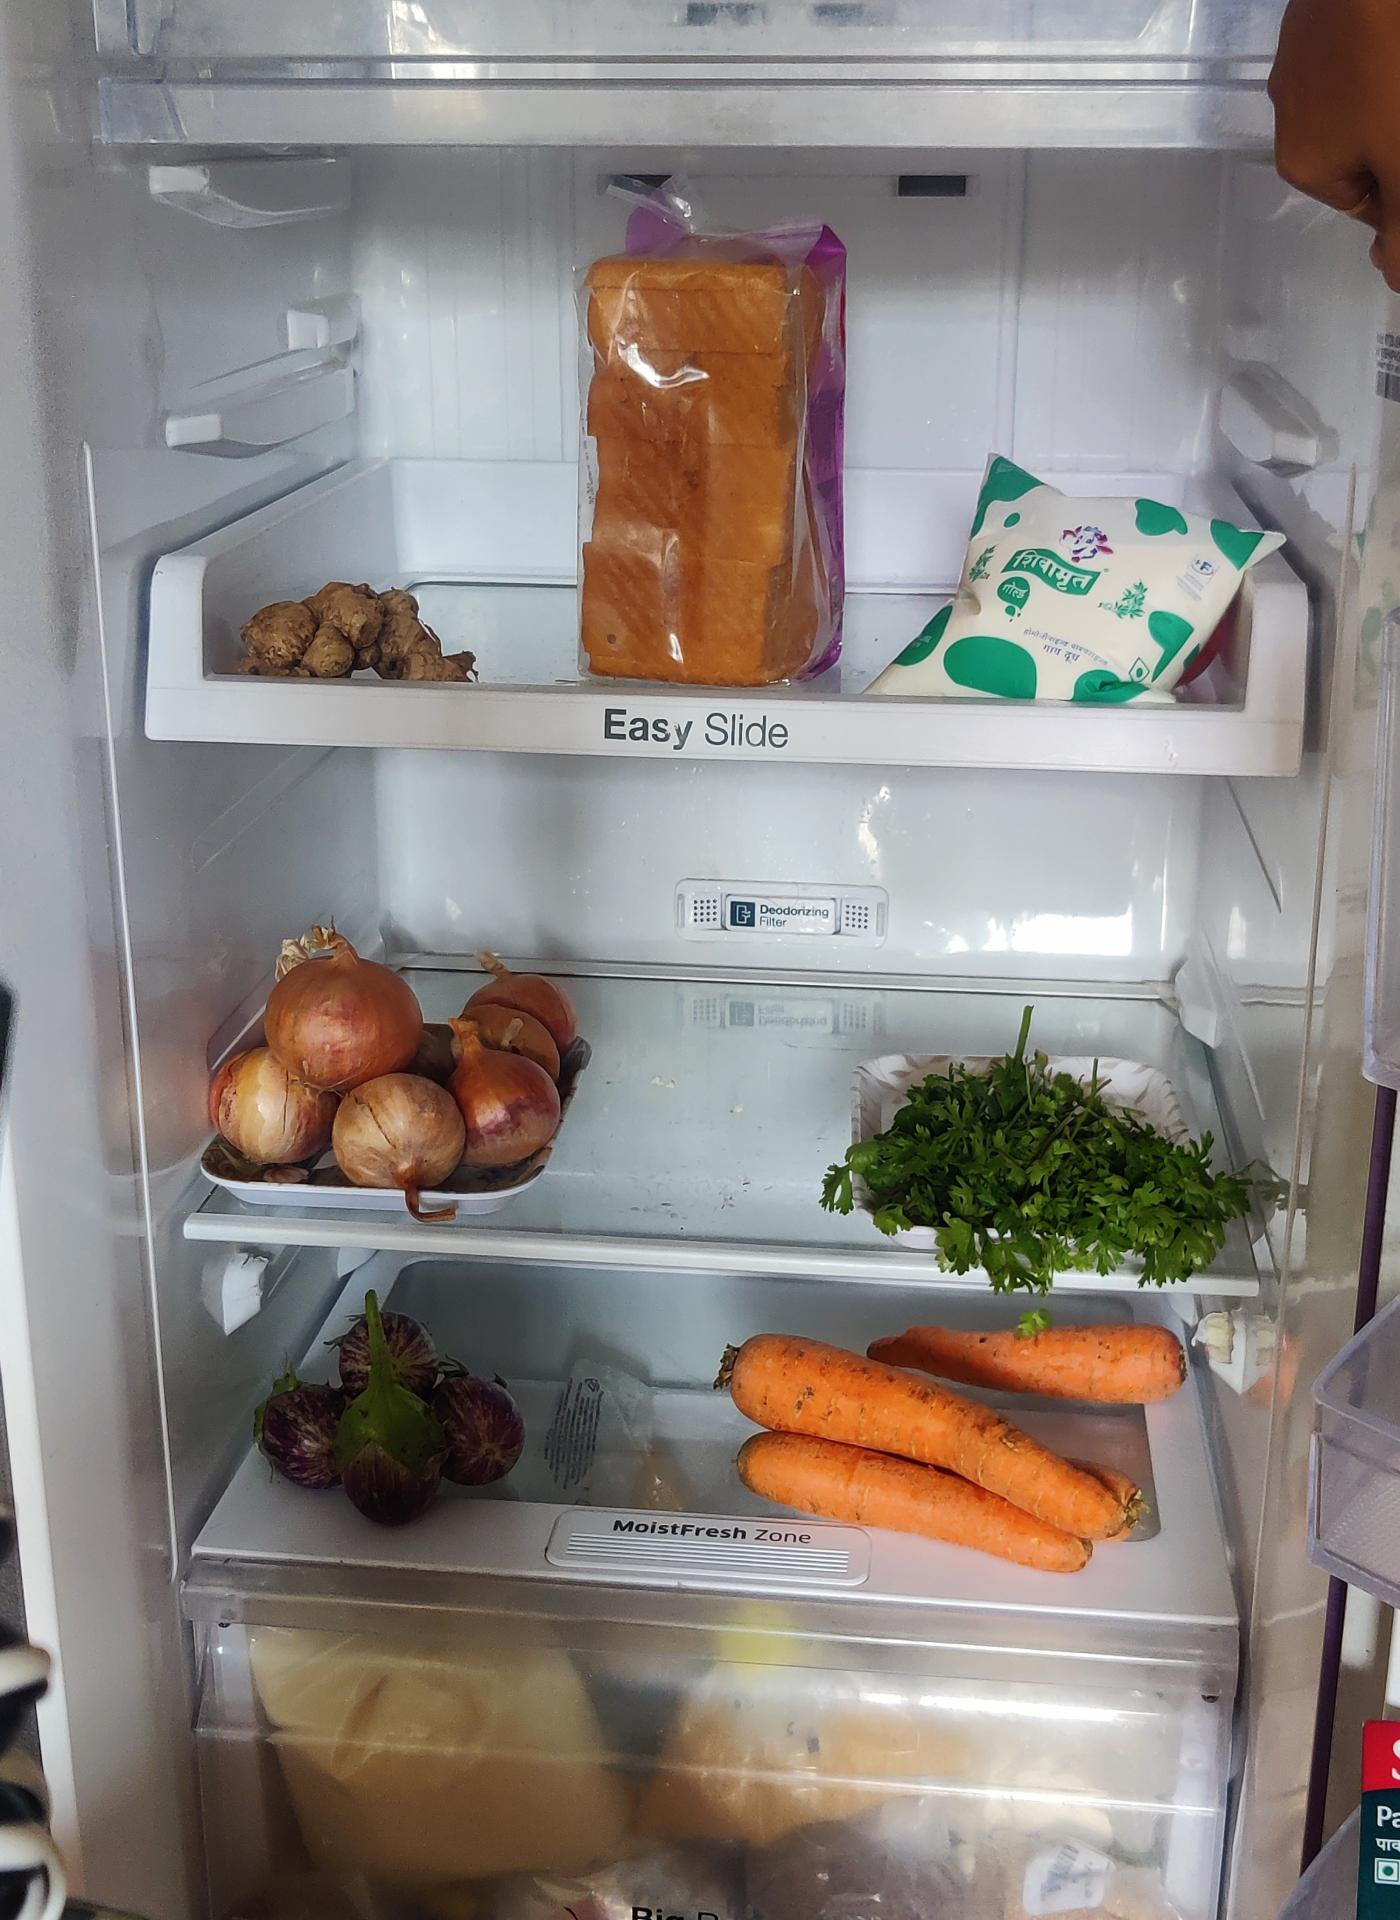bread: (568, 216, 853, 687)
brinjal: (261, 1294, 528, 1534)
carrots: (720, 1331, 1178, 1577)
coriander: (841, 1066, 1254, 1292)
ginger: (233, 580, 477, 690)
milk: (872, 449, 1282, 708)
onion: (212, 923, 592, 1188)
